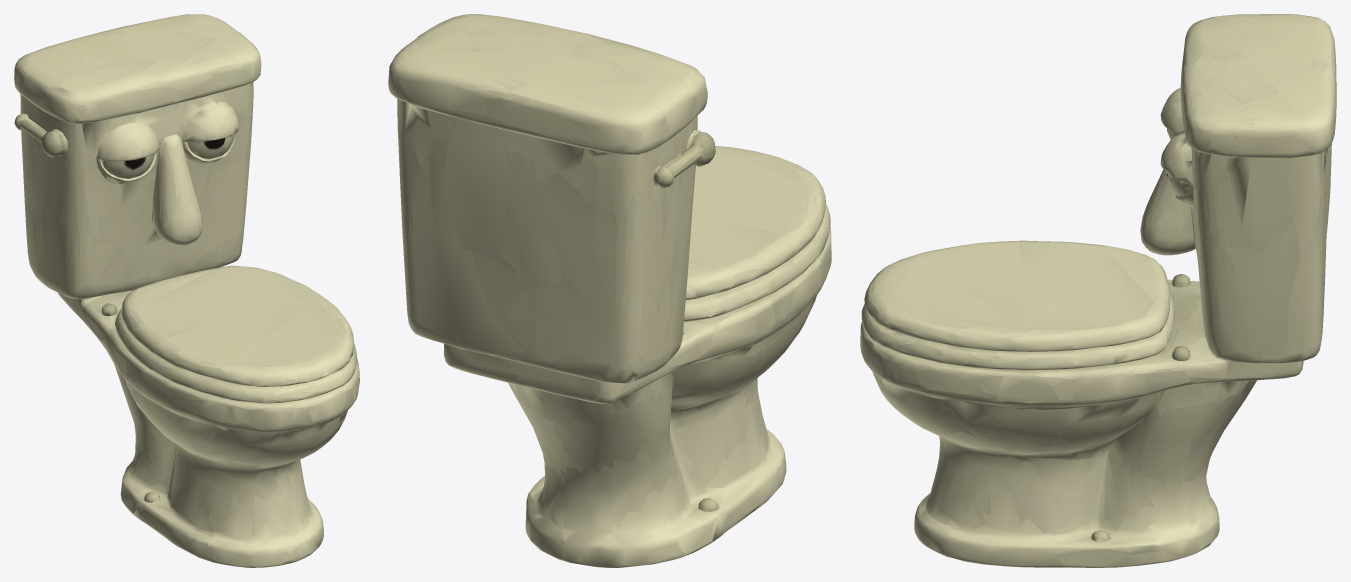
Rendered from toilet.glb.
3 renders of one model, left to right at view 1: azimuth 30°, elevation 25°; view 2: azimuth 150°, elevation 25°; view 3: azimuth 270°, elevation 25°, orthographic. The views are drawn at different scales.
Visible parts, largest first — view 1: Mesh_0; view 2: Mesh_0; view 3: Mesh_0.
Part boxes in pixels (x1=…): Mesh_0: x1=14, y1=14, x2=359, y2=567; Mesh_0: x1=388, y1=14, x2=831, y2=567; Mesh_0: x1=860, y1=14, x2=1336, y2=567.
Size of the model in its own units: 1.05 by 1.9 by 1.76.
Materials: 1 (1 with a texture image).
